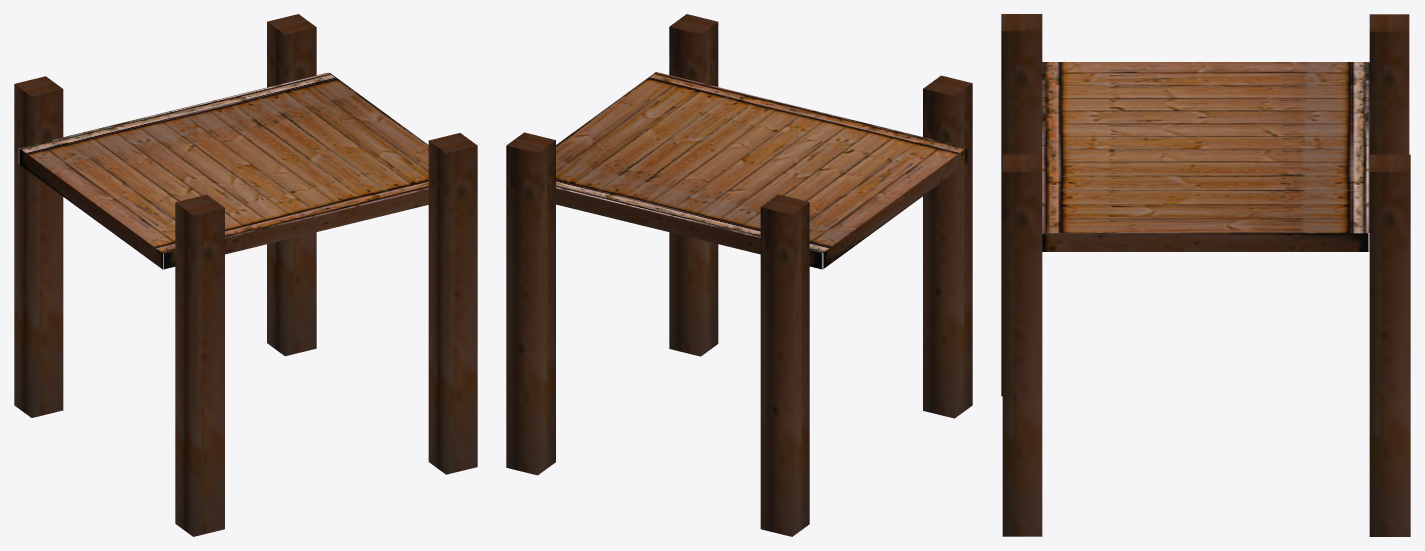
File: Berth.FBX
3 renders of one model, left to right at view 1: azimuth 30°, elevation 25°; view 2: azimuth 150°, elevation 25°; view 3: azimuth 270°, elevation 25°, orthographic. The views are drawn at different scales.
Parts seen in each view (by area): view 1: Berth; view 2: Berth; view 3: Berth.
Boxes of the visible parts, <box> form: Berth: <box>14,14,477,536</box>; Berth: <box>506,14,972,536</box>; Berth: <box>1001,14,1410,536</box>.
Bounding box in the file's own units: 20.02 × 19.81 × 20.12.
Materials: 1 (1 with a texture image).
